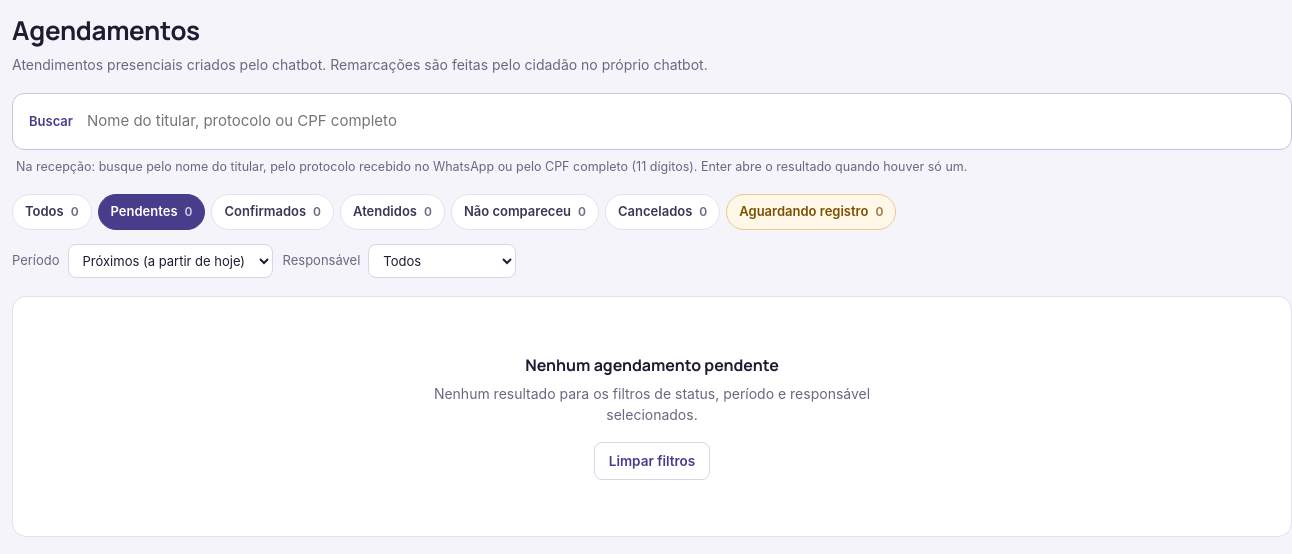
Test: Appointments.page: estados › mostra Nenhum agendamento pendente com o chip Pendentes e limpa os filtros
Expected: the text "Nenhum agendamento pendente" is shown, [525,353,779,377]
Expected: the text "Nenhum resultado para os filtros de status, período e responsável selecionados." is shown, [432,383,872,426]
Step 1. Click the button "Limpar filtros" → (652, 461), box [594,442,710,480]
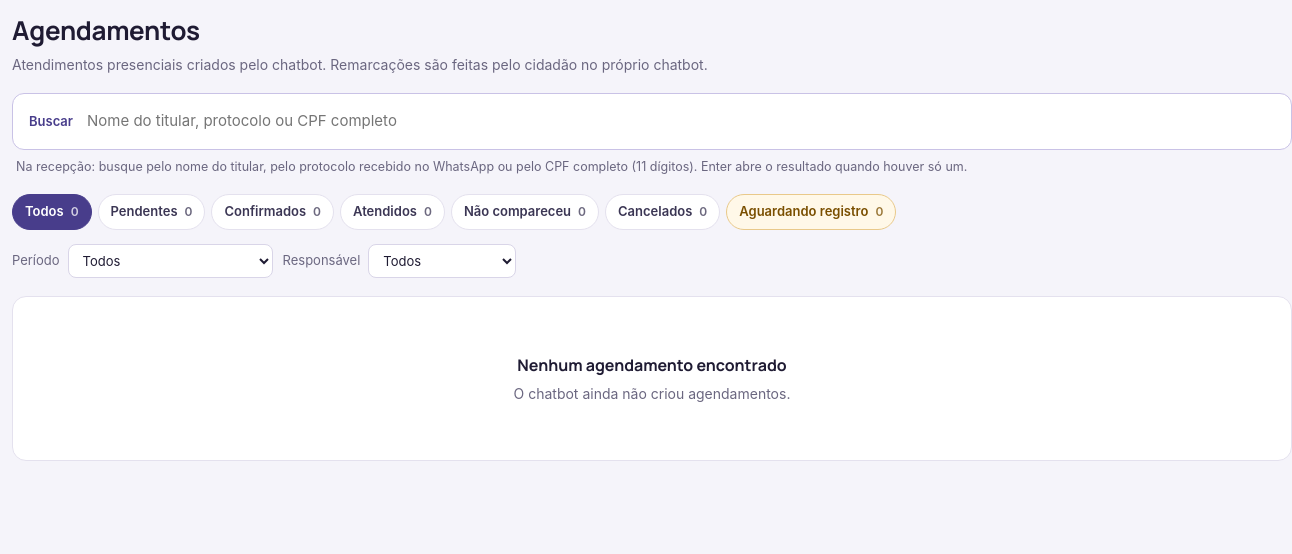
Now the text "O chatbot ainda não criou agendamentos." is shown, box [514,383,790,404]
